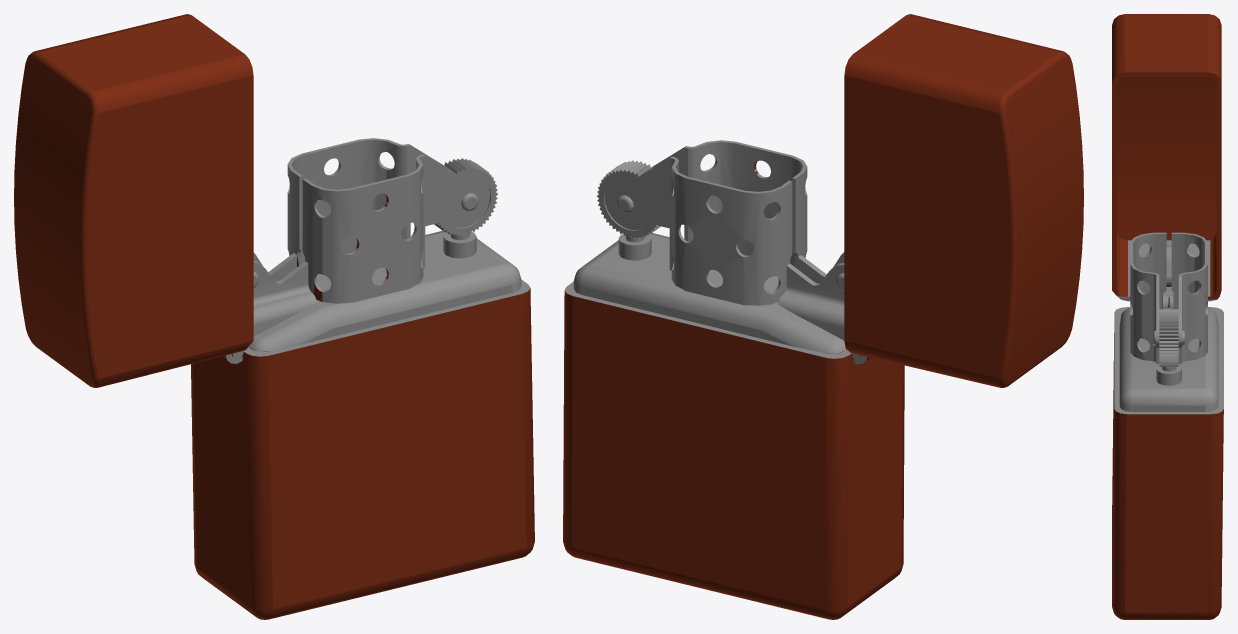
Rendered from Lighter1.fbx.
3 renders of one model, left to right at view 1: azimuth 30°, elevation 25°; view 2: azimuth 150°, elevation 25°; view 3: azimuth 270°, elevation 25°, orthographic. The views are drawn at different scales.
Parts seen in each view (by area): view 1: Default_3; view 2: Default_3; view 3: Default_3.
Part boxes in pixels (bbox=[...]): Default_3: bbox=[14, 14, 534, 619]; Default_3: bbox=[563, 14, 1083, 619]; Default_3: bbox=[1112, 14, 1223, 619].
Bounding box in the file's own units: 25.67 × 30.45 × 6.97.
